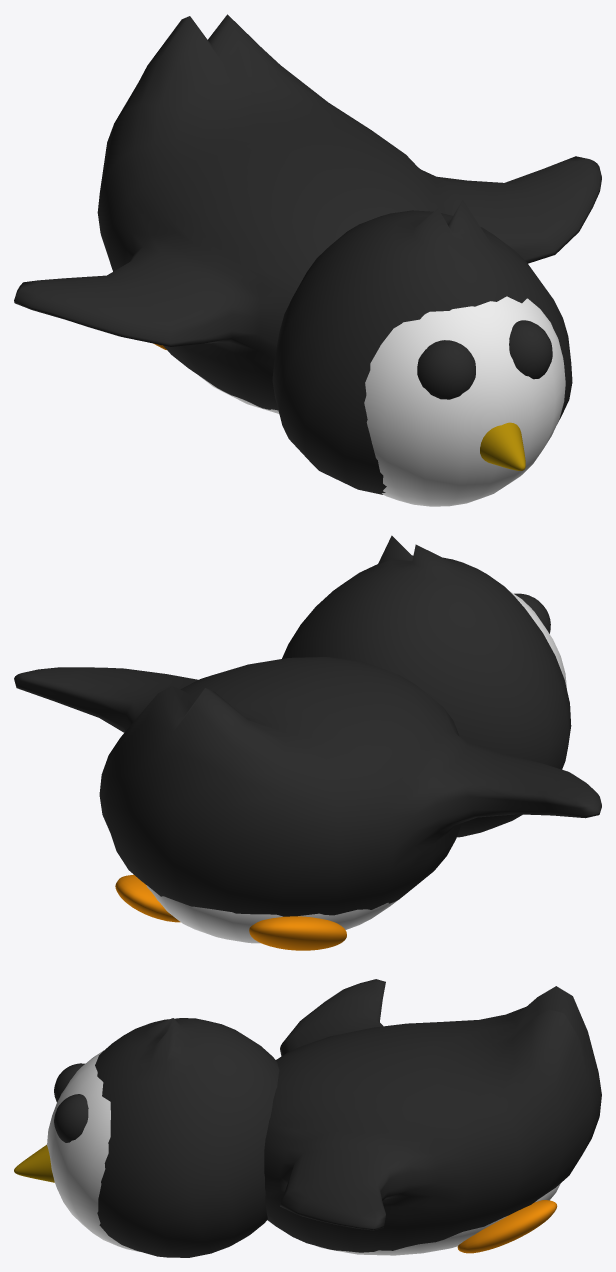
Rendered from PenguinBadCollision.fbx.
3 renders of one model, top to bottom at view 1: azimuth 30°, elevation 25°; view 2: azimuth 150°, elevation 25°; view 3: azimuth 270°, elevation 25°, orthographic. The views are drawn at different scales.
Parts seen in each view (by area): view 1: polySurface146; view 2: polySurface146; view 3: polySurface146.
Part boxes in pixels (x1,y1,x2,y2): polySurface146: [14, 14, 601, 506]; polySurface146: [14, 535, 601, 950]; polySurface146: [14, 979, 601, 1257].
Size of the model in its own units: 3.76 by 1.87 by 3.92.
